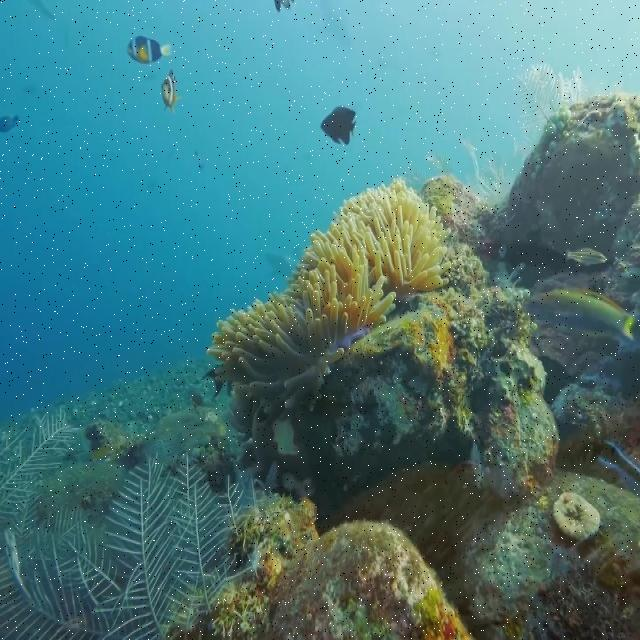aquatic plants: (0, 406, 271, 638), (519, 61, 583, 163)
fish: (540, 286, 632, 337), (320, 106, 357, 146), (127, 36, 170, 66), (161, 71, 177, 113), (567, 250, 604, 266)
reefs: (208, 174, 448, 420)
sea-floor: (164, 92, 639, 637)
